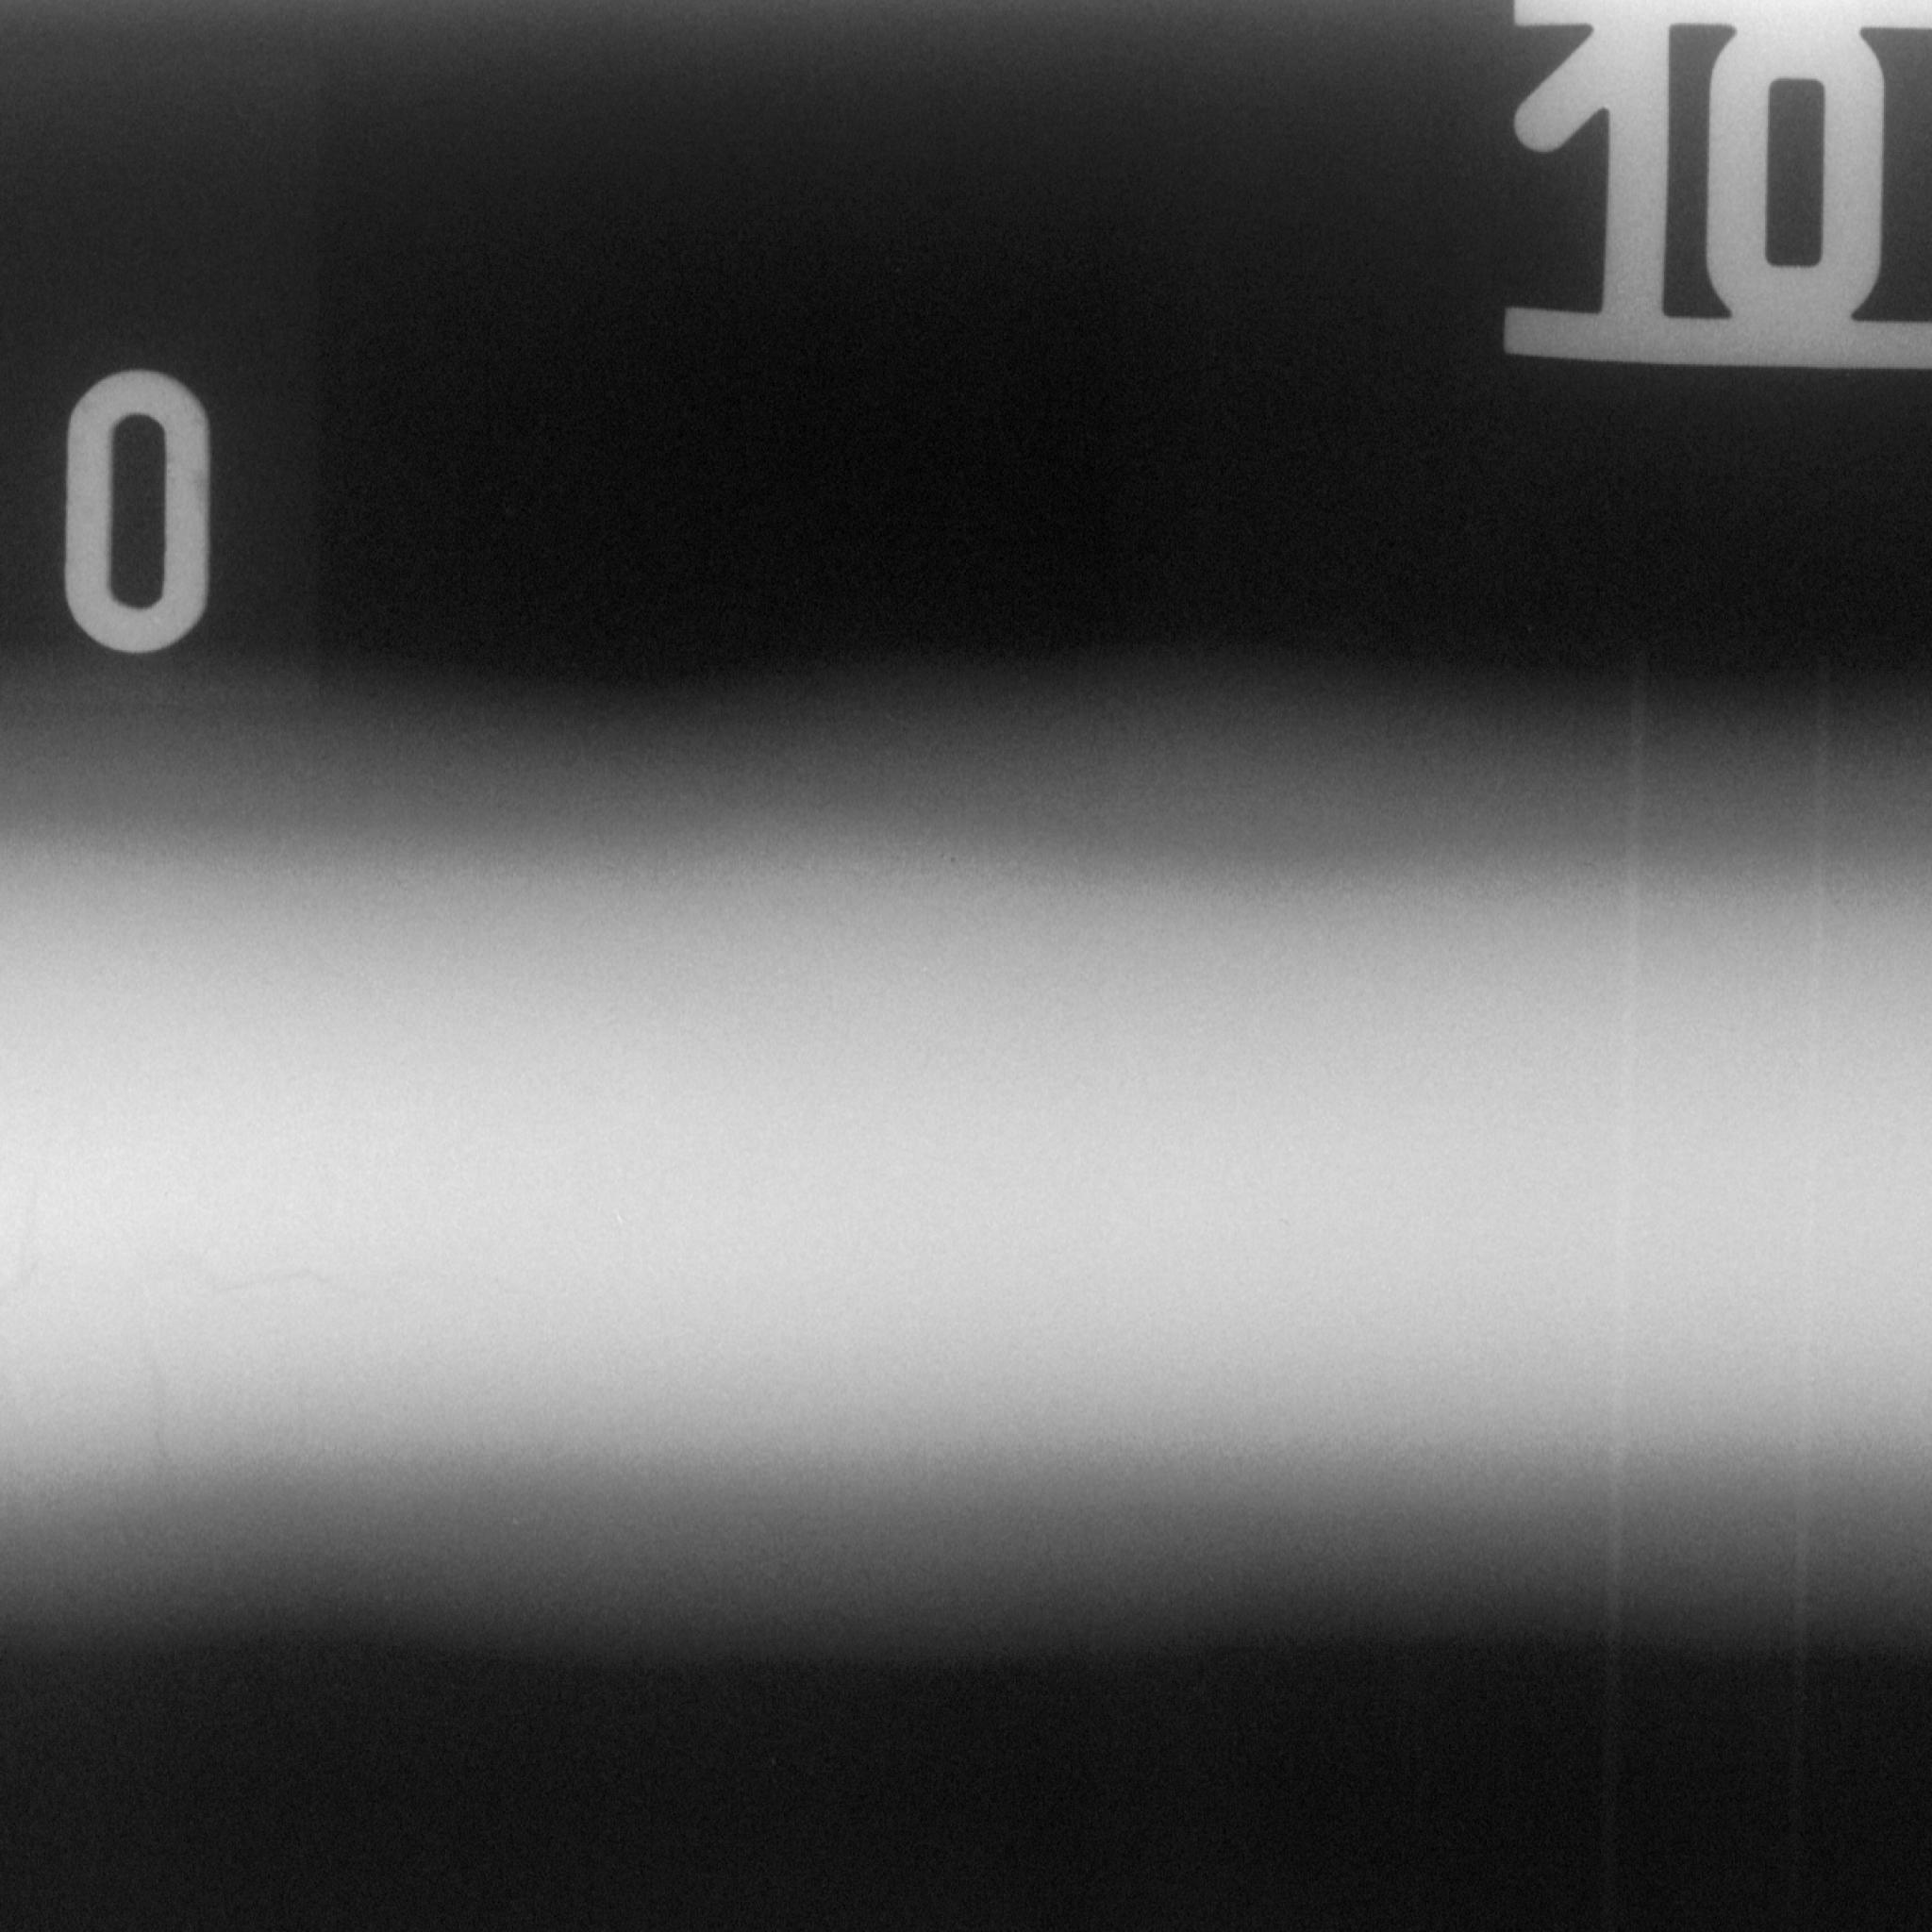Solda Ruim: (0, 1205, 368, 1617)
